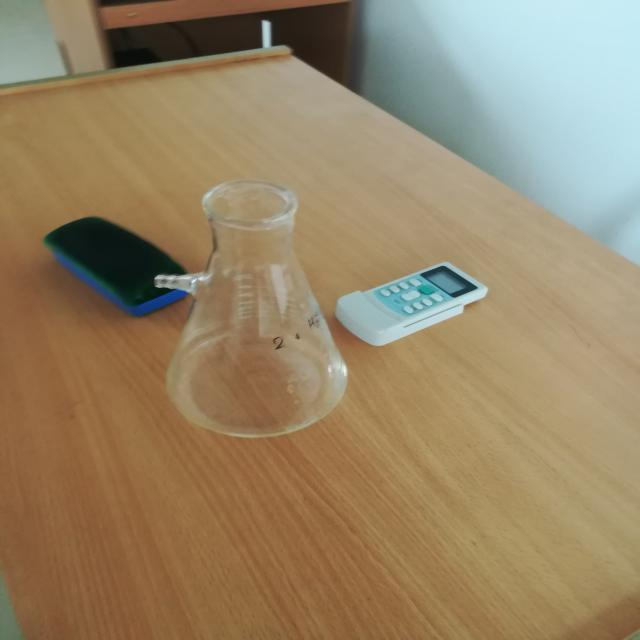Conical_Flask: (119, 164, 380, 464)
